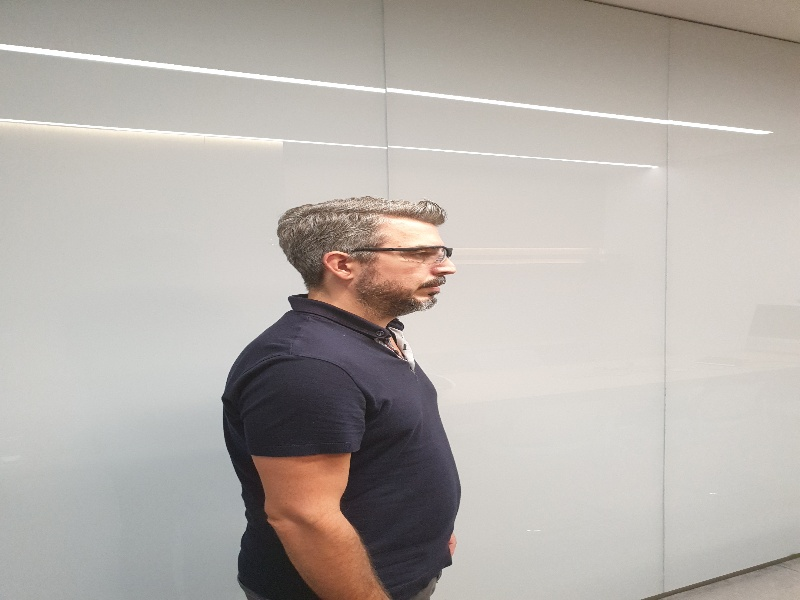Gozluk: (351, 243, 454, 262)
